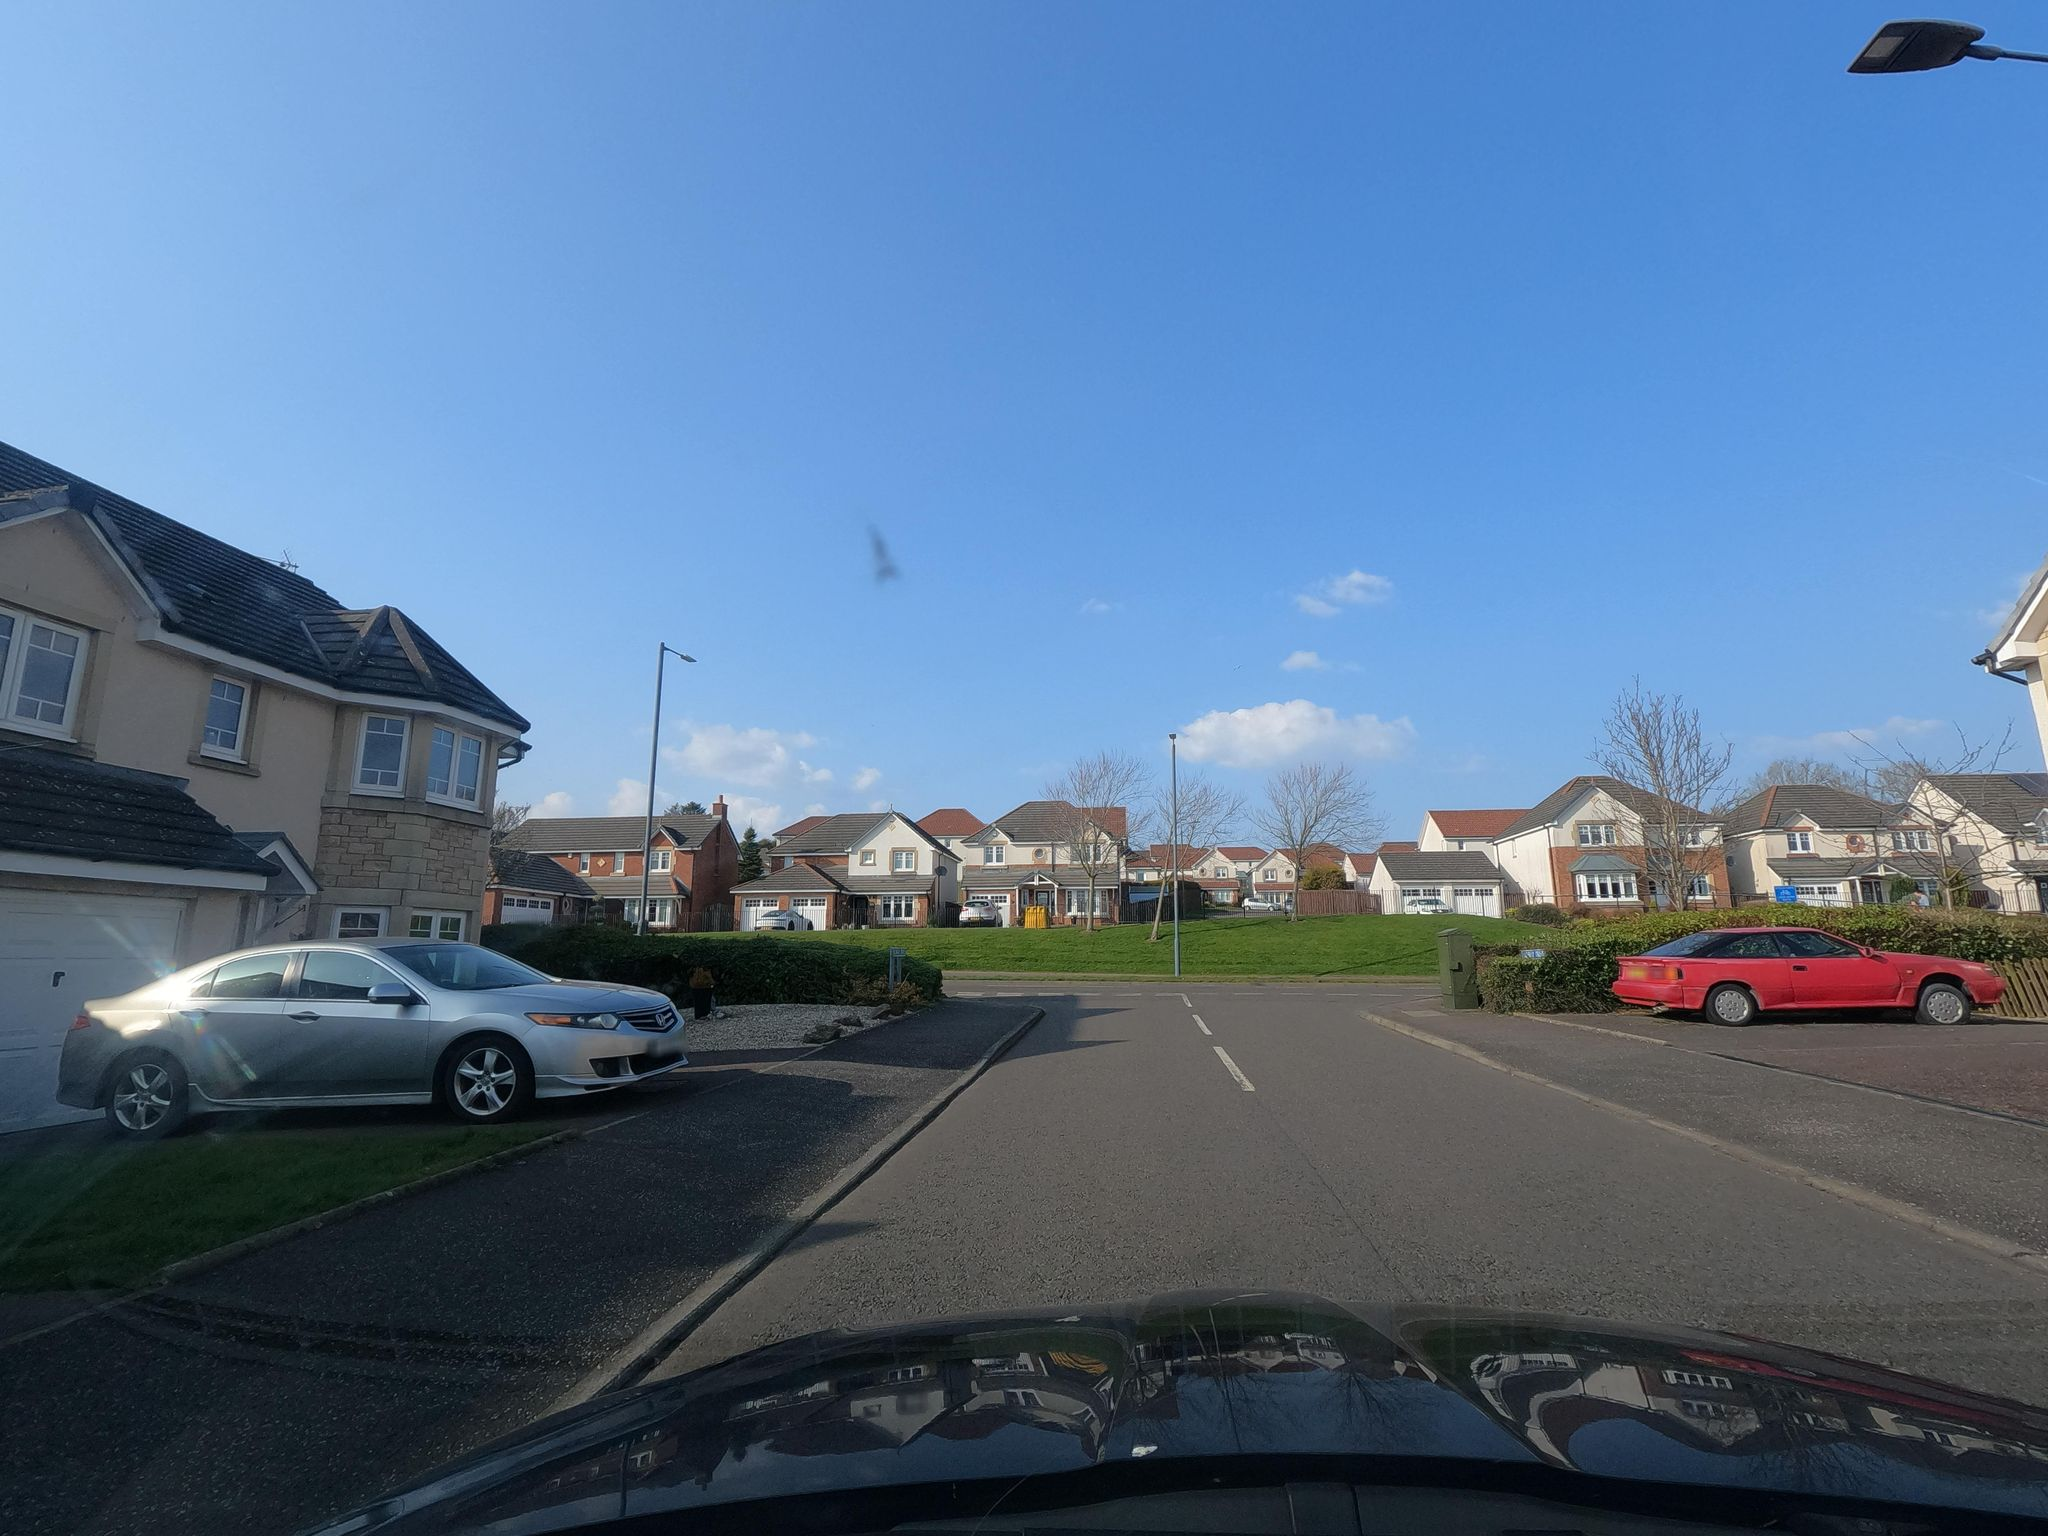car: (53, 933, 692, 1134), (1609, 925, 2006, 1025)
